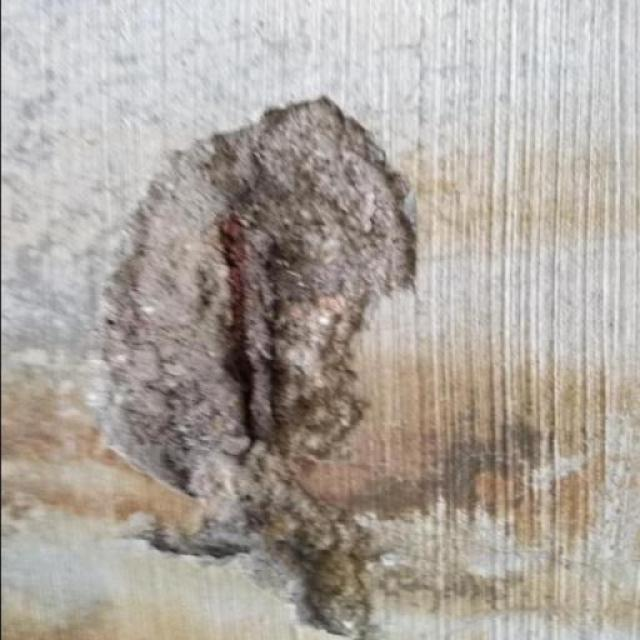D10: (94, 94, 416, 638)
